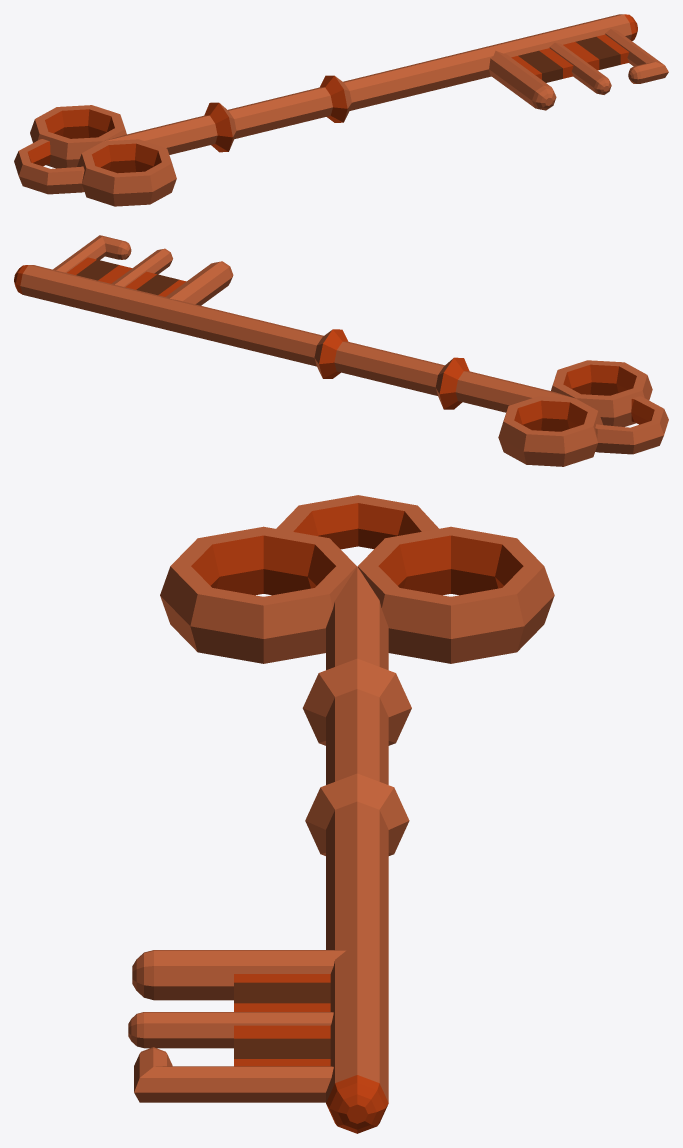
Rendered from Bronze_Key.glb.
3 views of the same model, one above another, from view 1: azimuth 30°, elevation 25°; view 2: azimuth 150°, elevation 25°; view 3: azimuth 270°, elevation 25° (orthographic). The views are drawn at different scales.
Parts seen in each view (by area): view 1: KeyBronze; view 2: KeyBronze; view 3: KeyBronze.
Part boxes in pixels (<box>): KeyBronze: <box>14,14,668,206</box>; KeyBronze: <box>14,235,668,466</box>; KeyBronze: <box>128,495,554,1133</box>.
Size of what is drawn, in the model's own units: 0.6057 by 0.0465 by 0.1814.
Materials: 1 (1 with a texture image).
